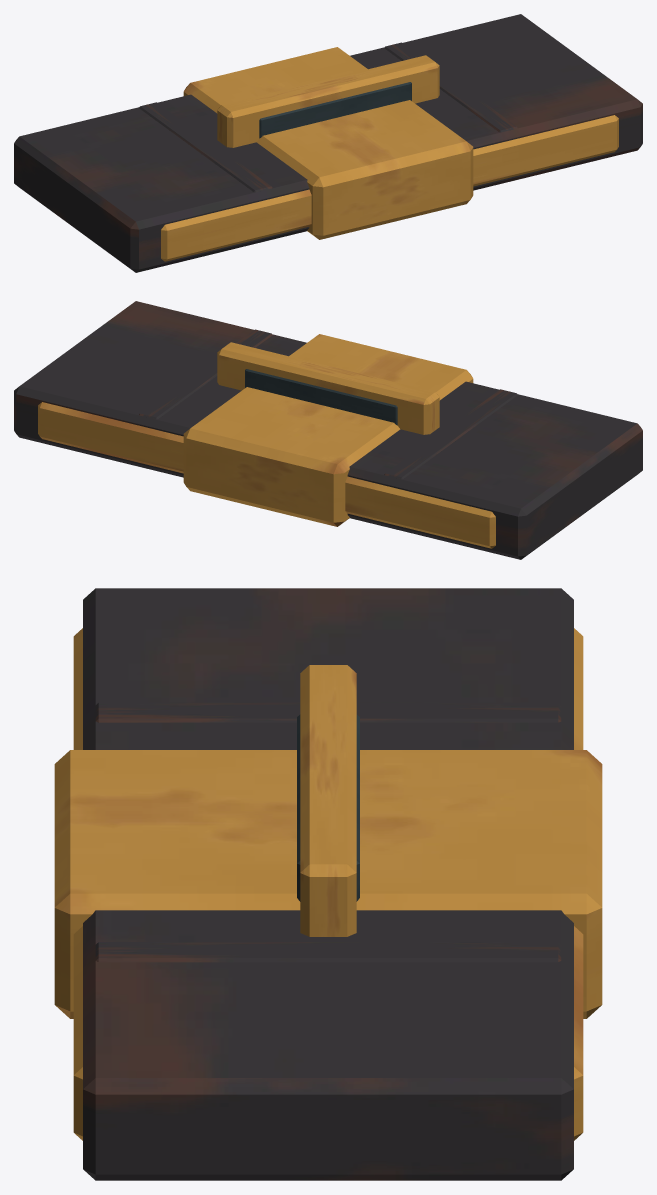
The model's file is car-chunks-van.glb.
3 views of the same model, one above another, from view 1: azimuth 30°, elevation 25°; view 2: azimuth 150°, elevation 25°; view 3: azimuth 270°, elevation 25° (orthographic). The views are drawn at different scales.
Parts seen in each view (by area): view 1: chassis, hood, roof, door; view 2: chassis, hood, roof, door; view 3: chassis, hood, roof, door.
Part boxes in pixels (<box>): chassis: <box>14,14,642,272</box>; hood: <box>183,47,473,239</box>; roof: <box>139,42,618,261</box>; door: <box>217,55,439,147</box>; chassis: <box>14,301,642,559</box>; hood: <box>183,334,473,526</box>; roof: <box>38,329,517,548</box>; door: <box>217,342,439,434</box>; chassis: <box>83,588,573,1180</box>; hood: <box>54,750,602,1018</box>; roof: <box>73,628,583,1140</box>; door: <box>297,665,359,936</box>.
Bounding box in the file's own units: 3.76 × 0.8401 × 1.74.
1 material, 1 textured.
